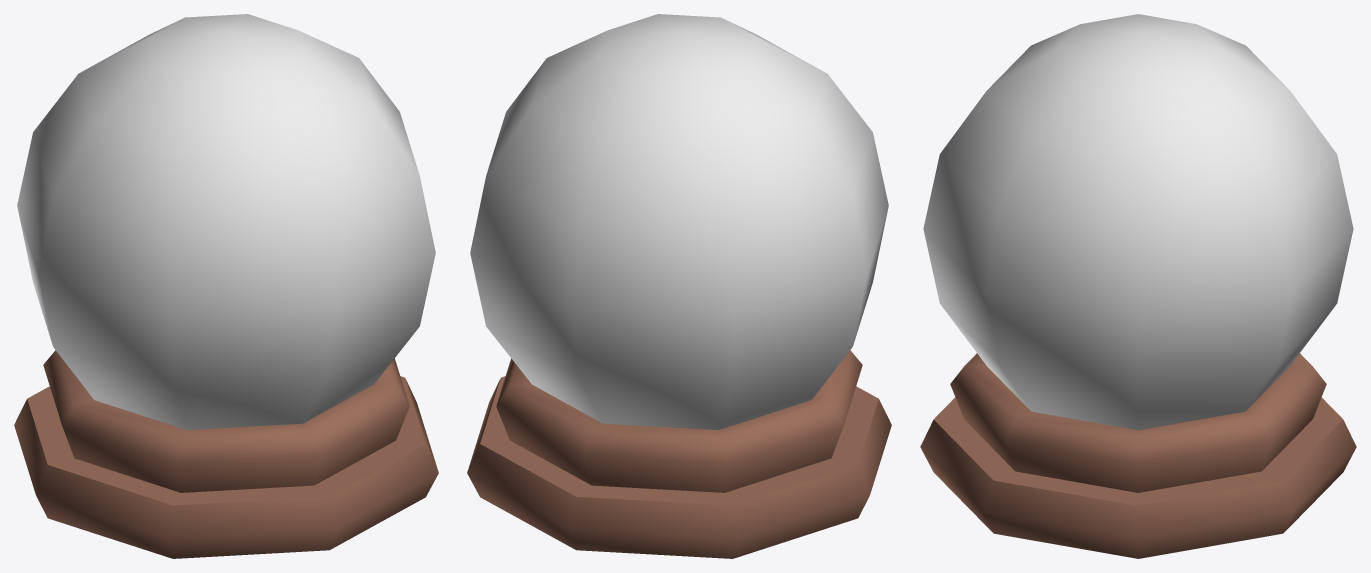
File: SnowGlobe.fbx
3 views of the same model, side by side, from view 1: azimuth 30°, elevation 25°; view 2: azimuth 150°, elevation 25°; view 3: azimuth 270°, elevation 25° (orthographic).
Parts seen in each view (by area): view 1: SnowGlobe; view 2: SnowGlobe; view 3: SnowGlobe.
Boxes of the visible parts, x1=… form: SnowGlobe: x1=14, y1=14, x2=438, y2=558; SnowGlobe: x1=467, y1=14, x2=891, y2=558; SnowGlobe: x1=920, y1=14, x2=1356, y2=558.
Bounding box in the file's own units: 2.98 × 3.31 × 2.98.
